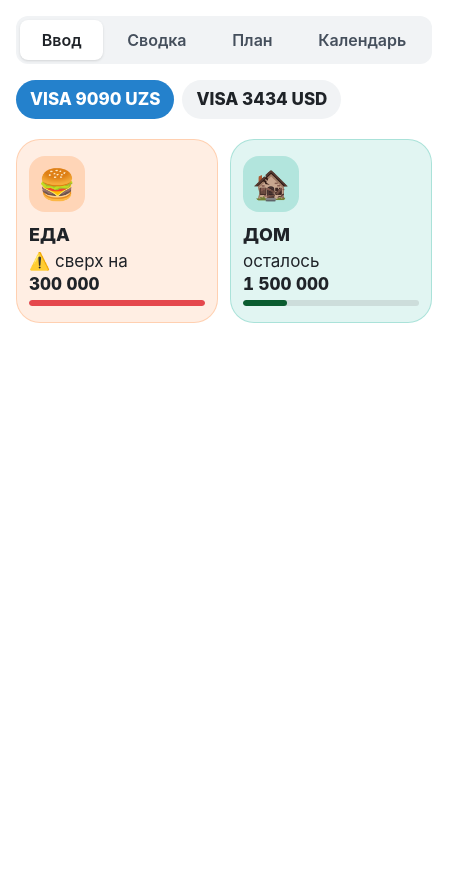
Test case: App › opens the plan tab
Click the tab "План". click: (252, 40)
box: left=210, top=20, right=294, bottom=60
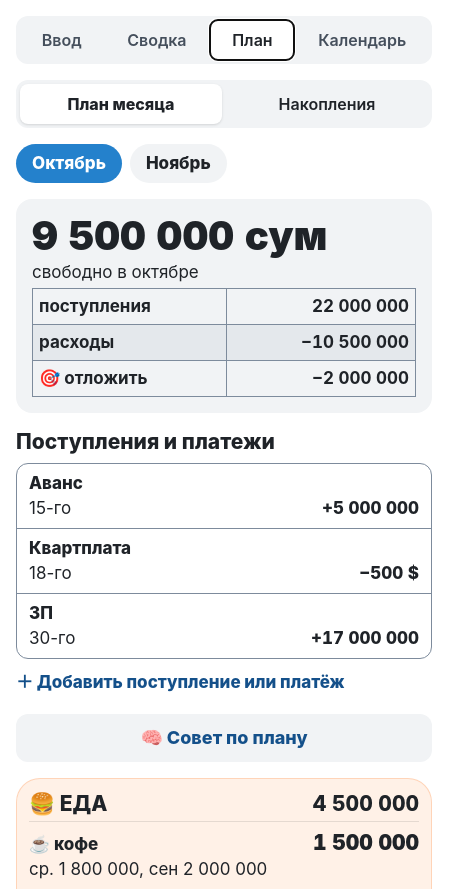
Result: the element named "Итог месяца" is shown at left=16, top=199, right=432, bottom=413
